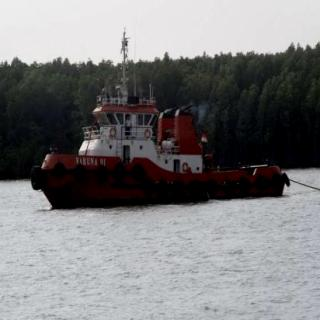Tug Boat: (37, 74, 290, 202)
